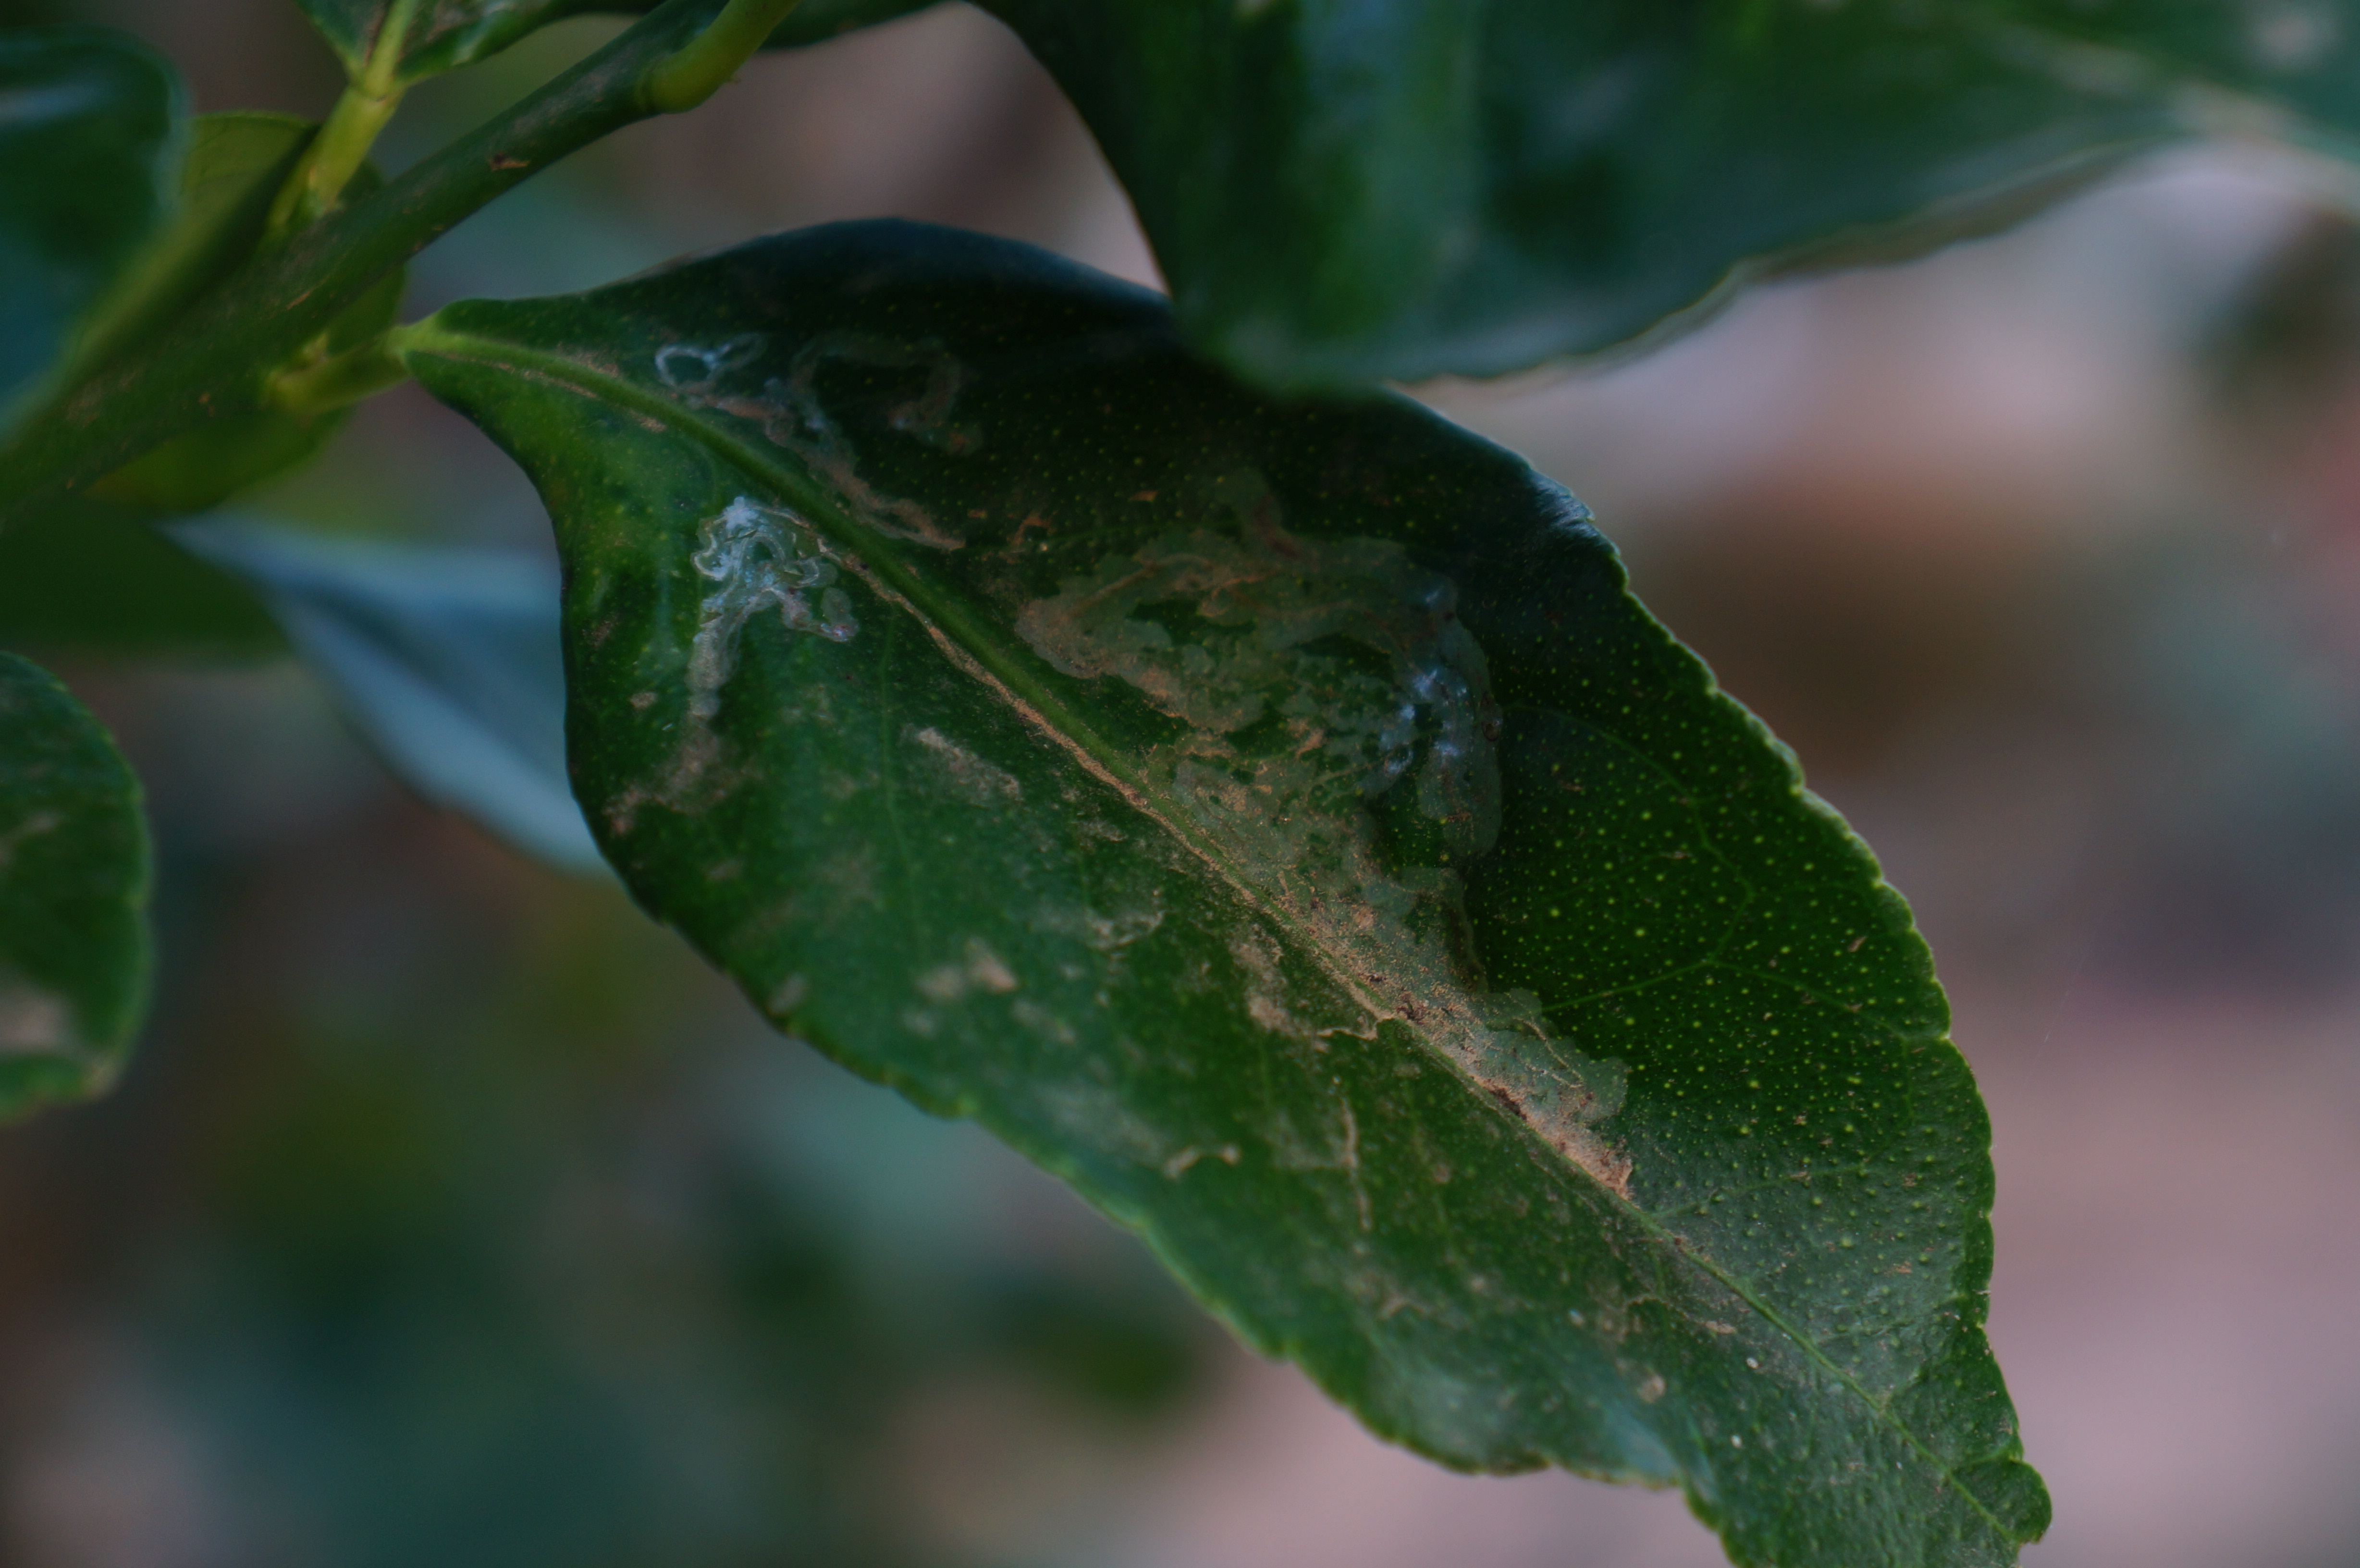damage: (1011, 432, 1711, 1244), (623, 317, 973, 856)
